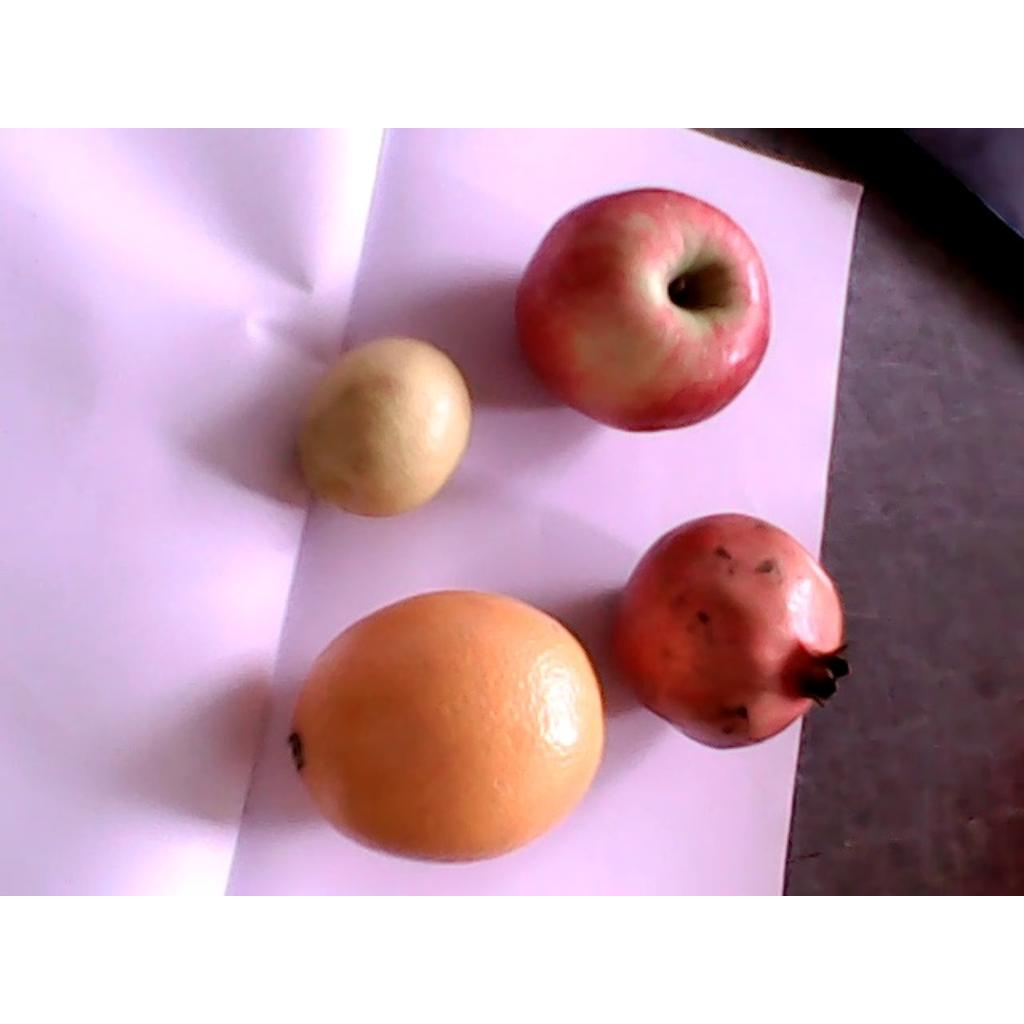apple: (511, 188, 769, 433)
lemon: (295, 335, 473, 516)
orange: (292, 590, 606, 867)
pomegranate: (610, 512, 856, 752)
